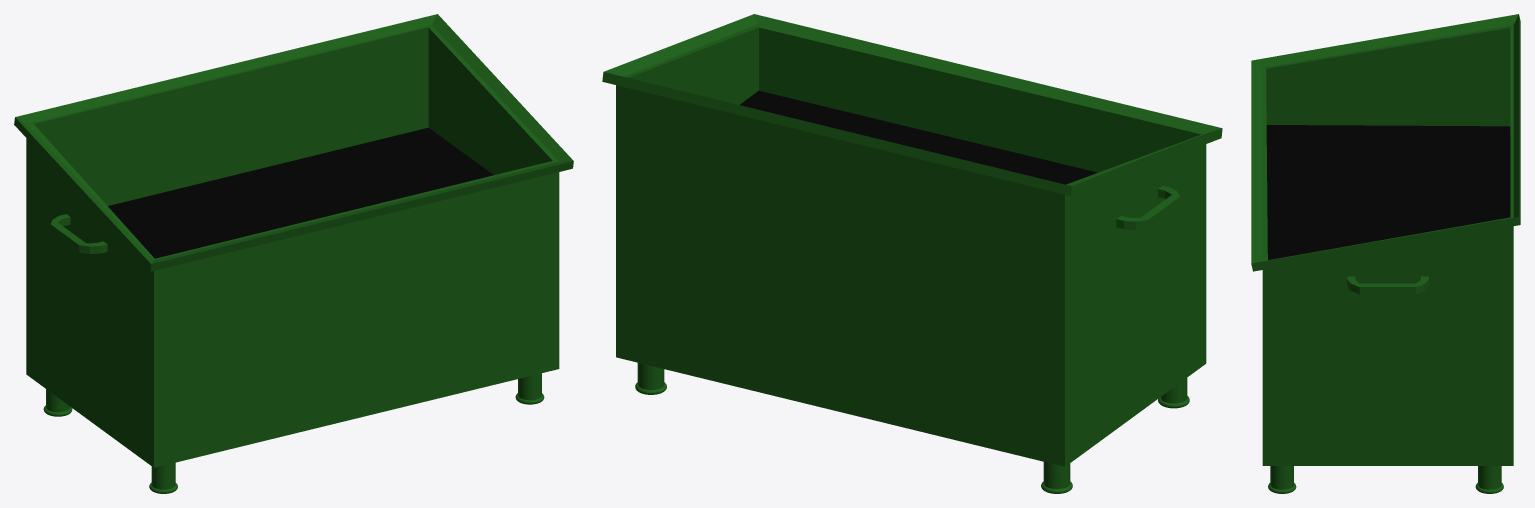
Rendered from trashbox.fbx.
3 views of the same model, side by side, from view 1: azimuth 30°, elevation 25°; view 2: azimuth 150°, elevation 25°; view 3: azimuth 270°, elevation 25° (orthographic). The views are drawn at different scales.
Parts seen in each view (by area): view 1: trashbox, Plane.001; view 2: trashbox, Plane.001; view 3: trashbox, Plane.001.
Part boxes in pixels (left/top/right/bottom): trashbox: left=14, top=14, right=573, bottom=493; Plane.001: left=108, top=127, right=493, bottom=258; trashbox: left=602, top=14, right=1222, bottom=493; Plane.001: left=740, top=90, right=1097, bottom=184; trashbox: left=1251, top=14, right=1520, bottom=493; Plane.001: left=1266, top=125, right=1510, bottom=259.
Size of the model in its own units: 299 by 183 by 156.
